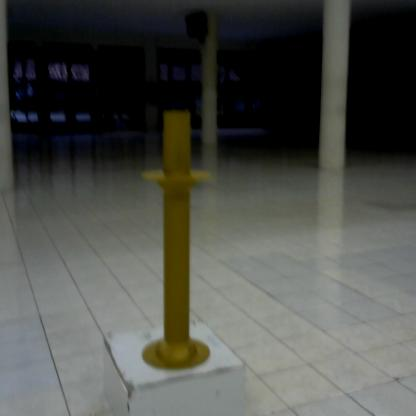pole: (136, 102, 223, 386)
